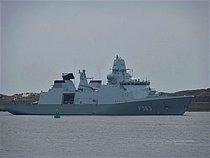MIL_Ship: (2, 53, 197, 118)
